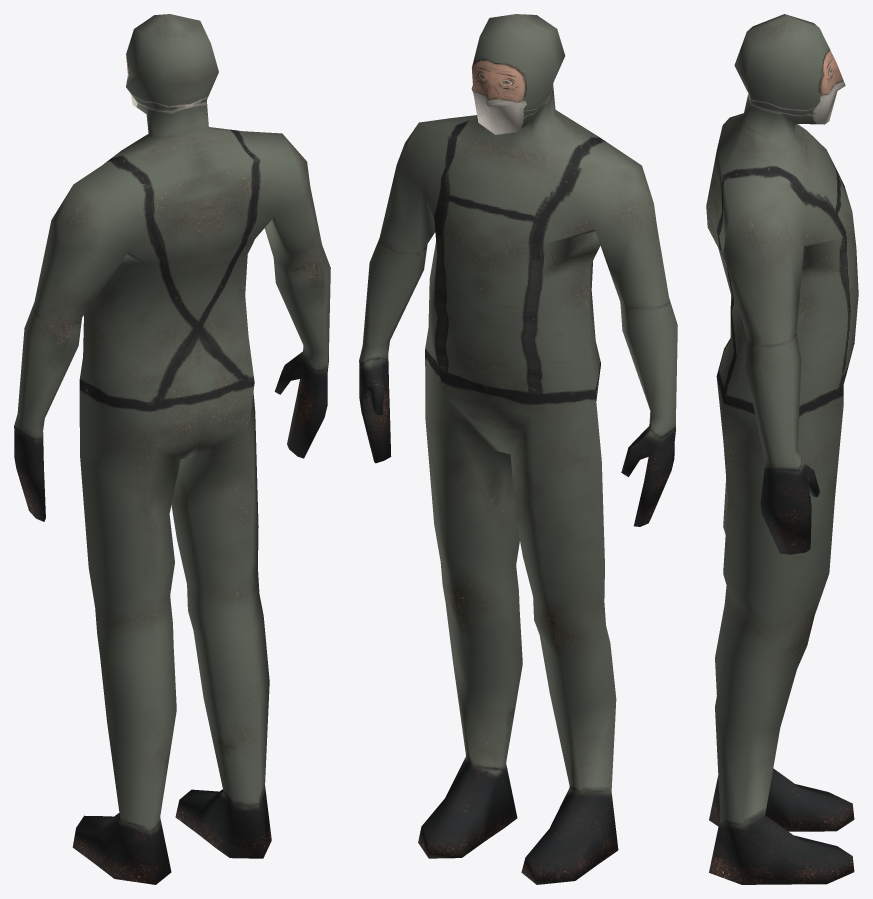
File: гаргамель.glb
3 views of the same model, side by side, from view 1: azimuth 30°, elevation 25°; view 2: azimuth 150°, elevation 25°; view 3: azimuth 270°, elevation 25° (orthographic).
Parts seen in each view (by area): view 1: Character_Male; view 2: Character_Male; view 3: Character_Male.
Boxes of the visible parts, x1,y1,x2,y2 form: Character_Male: (14,14,330,884); Character_Male: (359,14,677,884); Character_Male: (706,14,858,884).
Bounding box in the file's own units: 0.7565 × 1.95 × 0.3237.
1 material, 1 textured.
